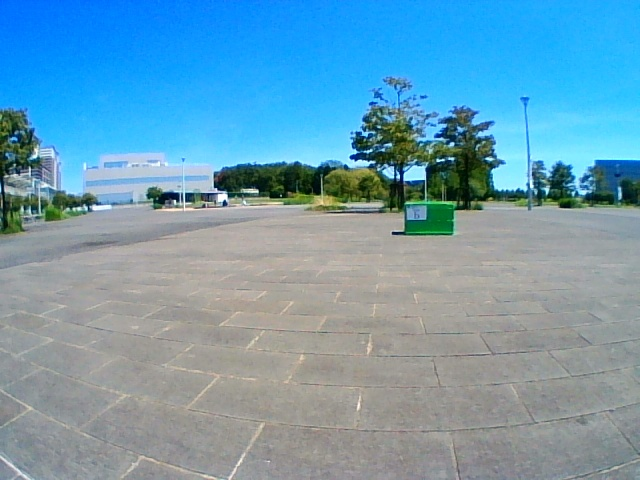green_box: (404, 201, 455, 234)
tag: (406, 205, 425, 219)
